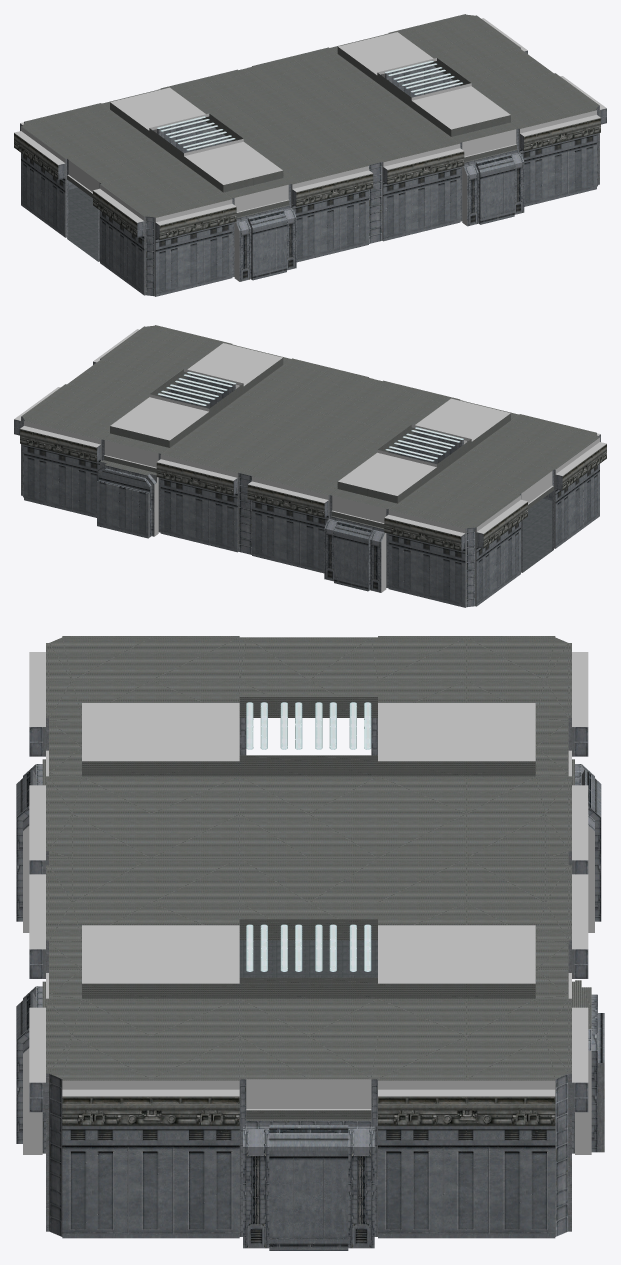
Rendered from poi_all_impl_bunker_small_outpost_s01_r49_storage_mesh.fbx.
The picture shows the model from 3 angles, top to bottom: view 1: azimuth 30°, elevation 25°; view 2: azimuth 150°, elevation 25°; view 3: azimuth 270°, elevation 25°; orthographic projection. The views are drawn at different scales.
Parts seen in each view (by area): view 1: mesh_node; view 2: mesh_node; view 3: mesh_node.
Part boxes in pixels (x1,y1,x2,y2): mesh_node: (14, 14, 606, 296); mesh_node: (14, 325, 606, 607); mesh_node: (16, 636, 604, 1250).
Bounding box in the file's own units: 33.4 × 6 × 17.9.
